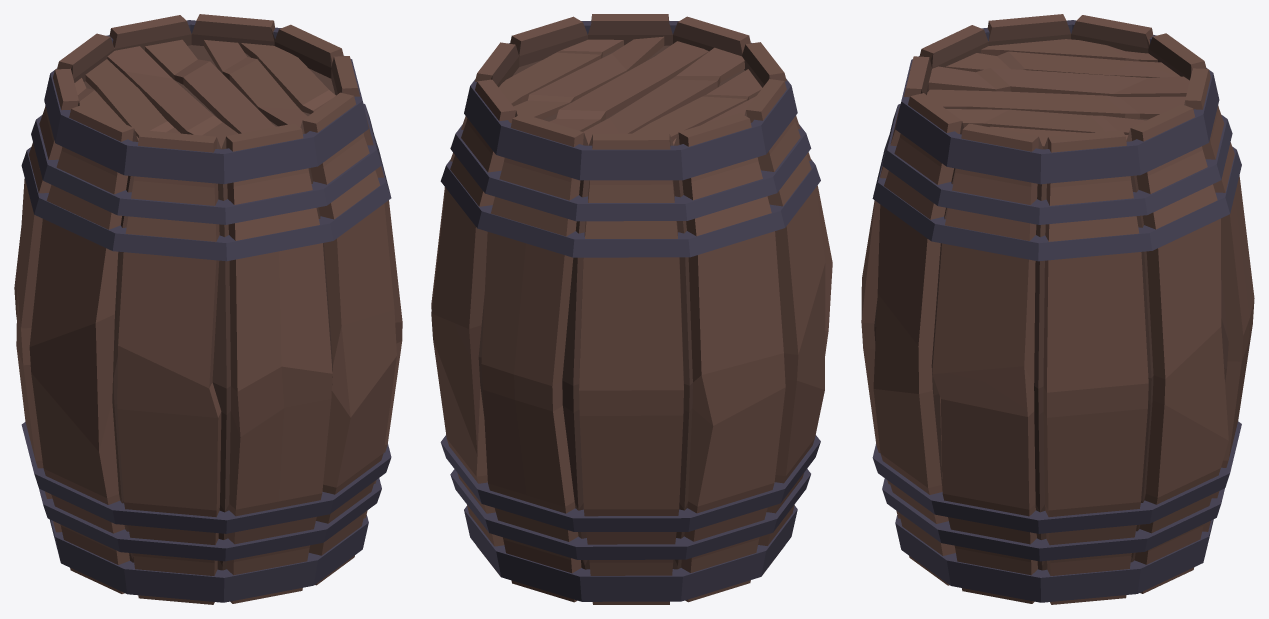
Rendered from prop_barrel.fbx.
3 renders of one model, left to right at view 1: azimuth 30°, elevation 25°; view 2: azimuth 150°, elevation 25°; view 3: azimuth 270°, elevation 25°, orthographic.
Parts seen in each view (by area): view 1: prop_barrel; view 2: prop_barrel; view 3: prop_barrel.
Part boxes in pixels (box(x1,y1,x2,y2)): prop_barrel: box(14, 14, 402, 604); prop_barrel: box(431, 14, 832, 604); prop_barrel: box(861, 14, 1254, 604).
Size of the model in its own units: 0.6968 by 0.9 by 0.6908.
1 material, 1 textured.
